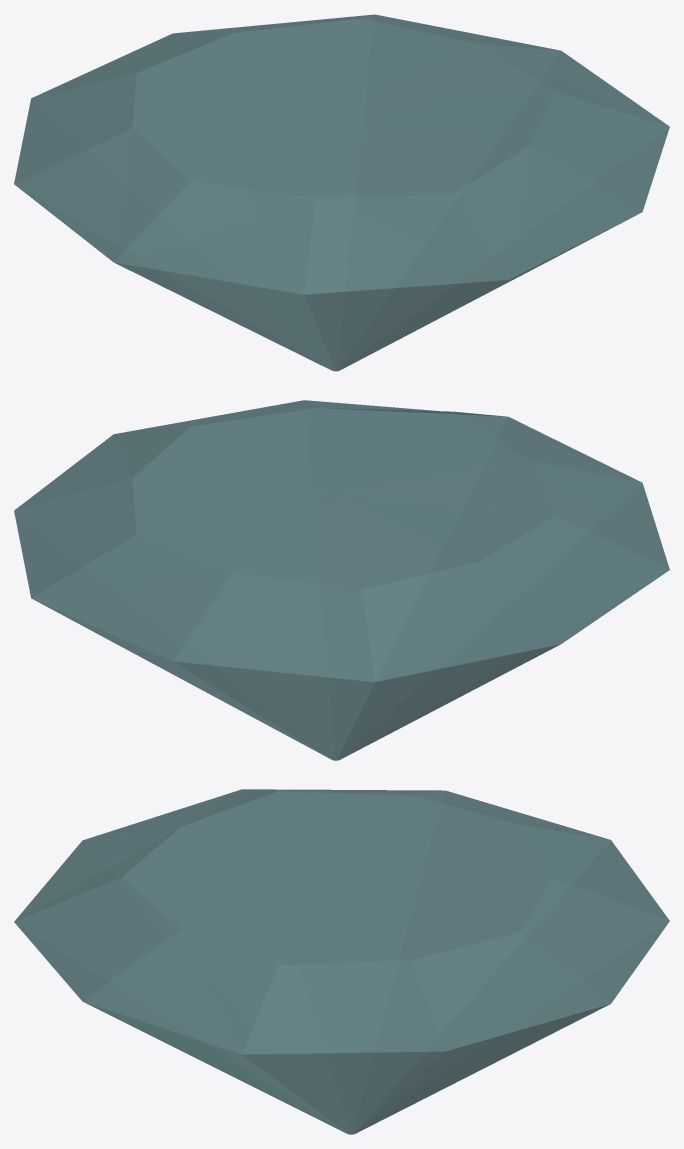
File: diamond.fbx
The picture shows the model from 3 angles, top to bottom: view 1: azimuth 30°, elevation 25°; view 2: azimuth 150°, elevation 25°; view 3: azimuth 270°, elevation 25°; orthographic projection. The views are drawn at different scales.
Visible parts, largest first — view 1: pCylinder1; view 2: pCylinder1; view 3: pCylinder1.
Boxes of the visible parts, bbox=[...] form: pCylinder1: bbox=[14, 14, 669, 371]; pCylinder1: bbox=[14, 400, 669, 760]; pCylinder1: bbox=[14, 789, 669, 1134].
Bounding box in the file's own units: 14.27 × 6.4 × 14.91.
